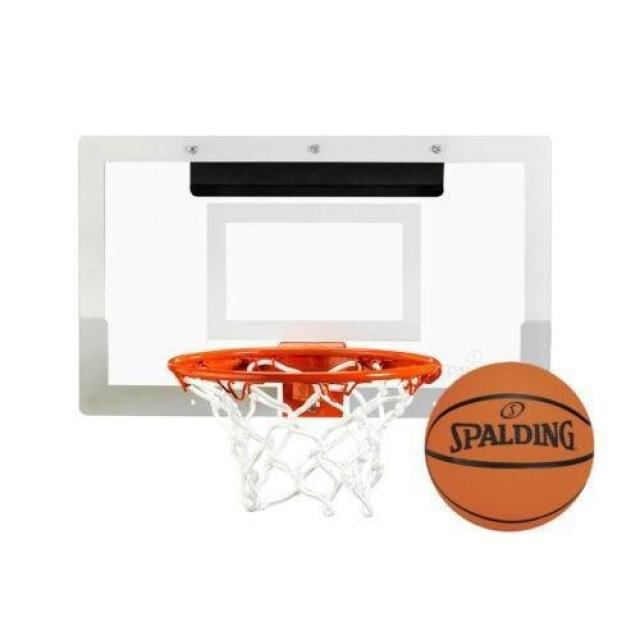Basketball: (425, 362, 595, 530)
hoop: (166, 346, 441, 518)
